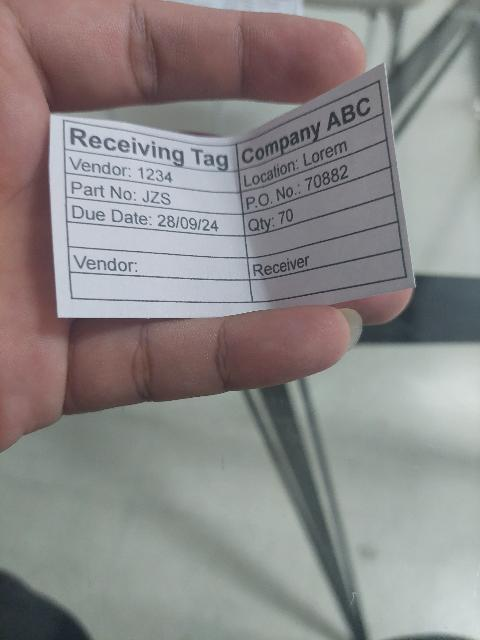PO no: (242, 140, 391, 215)
part no: (66, 173, 242, 216)
qty: (243, 167, 393, 235)
tags: (46, 63, 416, 324)
